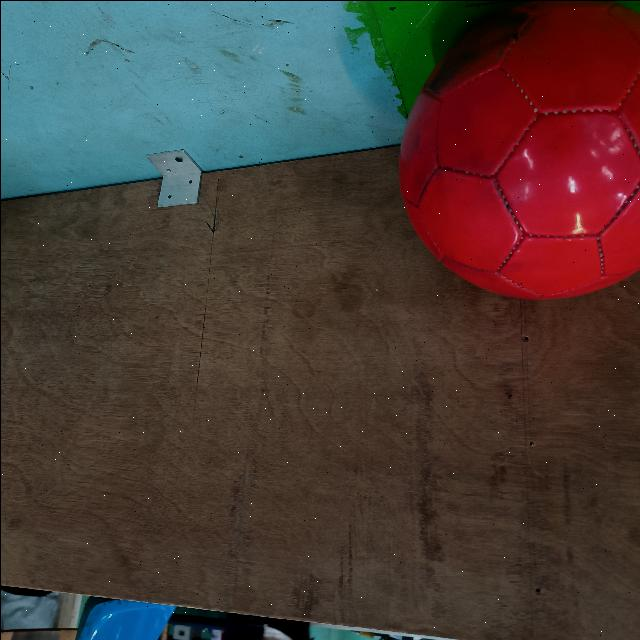R: (390, 0, 640, 304)
